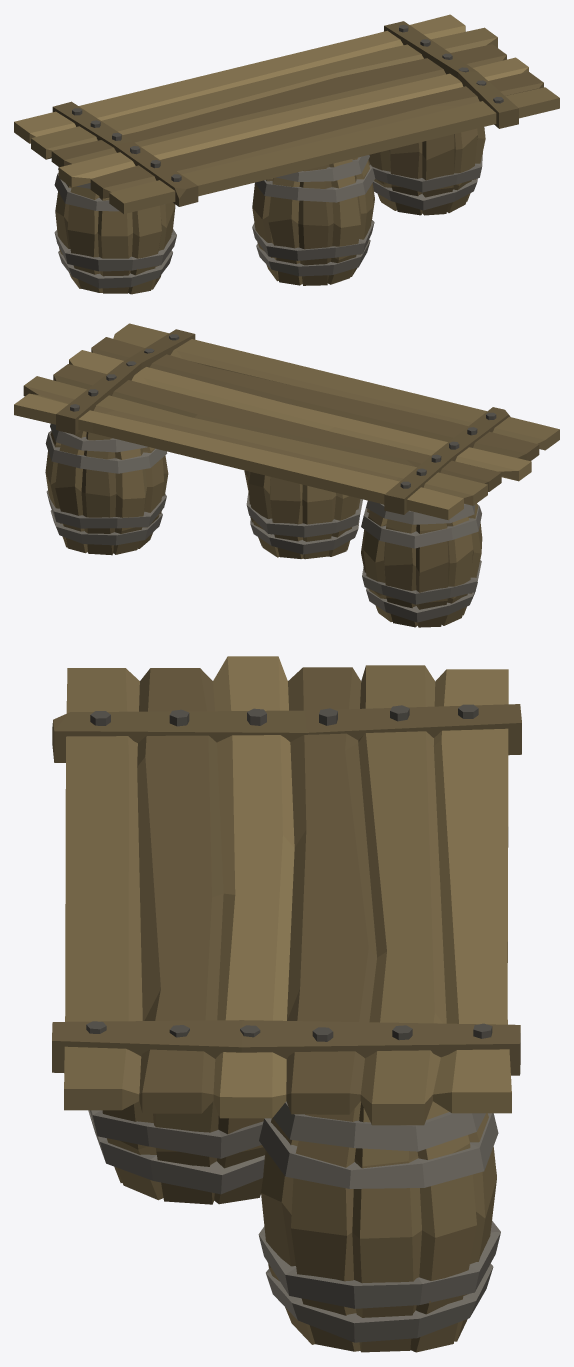
The model's file is Table_3.fbx.
3 renders of one model, top to bottom at view 1: azimuth 30°, elevation 25°; view 2: azimuth 150°, elevation 25°; view 3: azimuth 270°, elevation 25°, orthographic. The views are drawn at different scales.
Visible parts, largest first — view 1: Table_3; view 2: Table_3; view 3: Table_3.
Part boxes in pixels (left/top/right/bottom): Table_3: left=14, top=14, right=559, bottom=294; Table_3: left=14, top=323, right=559, bottom=627; Table_3: left=52, top=656, right=521, bottom=1352.
Bounding box in the file's own units: 266 × 83.79 × 118.
